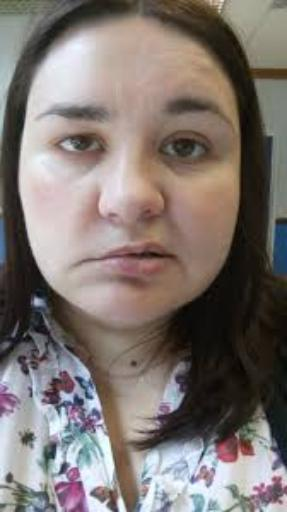left_eye: (159, 138, 215, 166)
left_lip_corner: (165, 251, 180, 270)
right_eye: (51, 133, 109, 160)
right_lip_corner: (70, 257, 98, 277)
